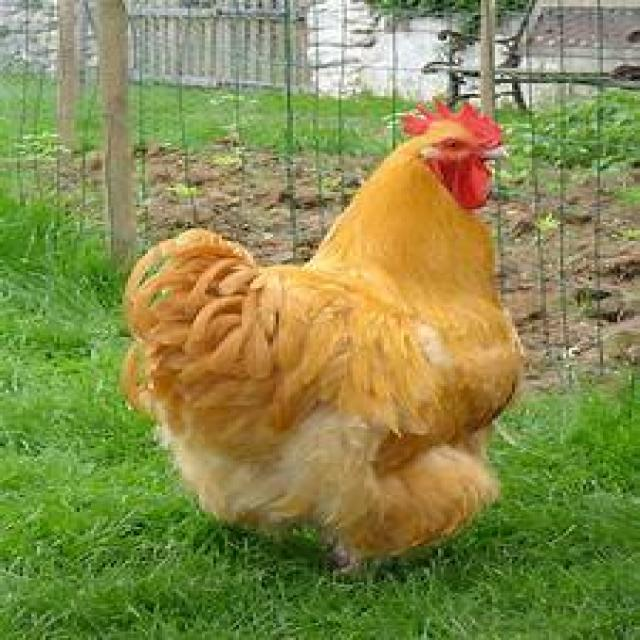hen: (127, 105, 522, 566)
